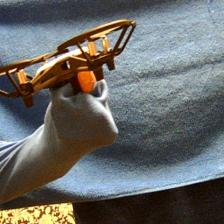drone: (1, 21, 138, 106)
